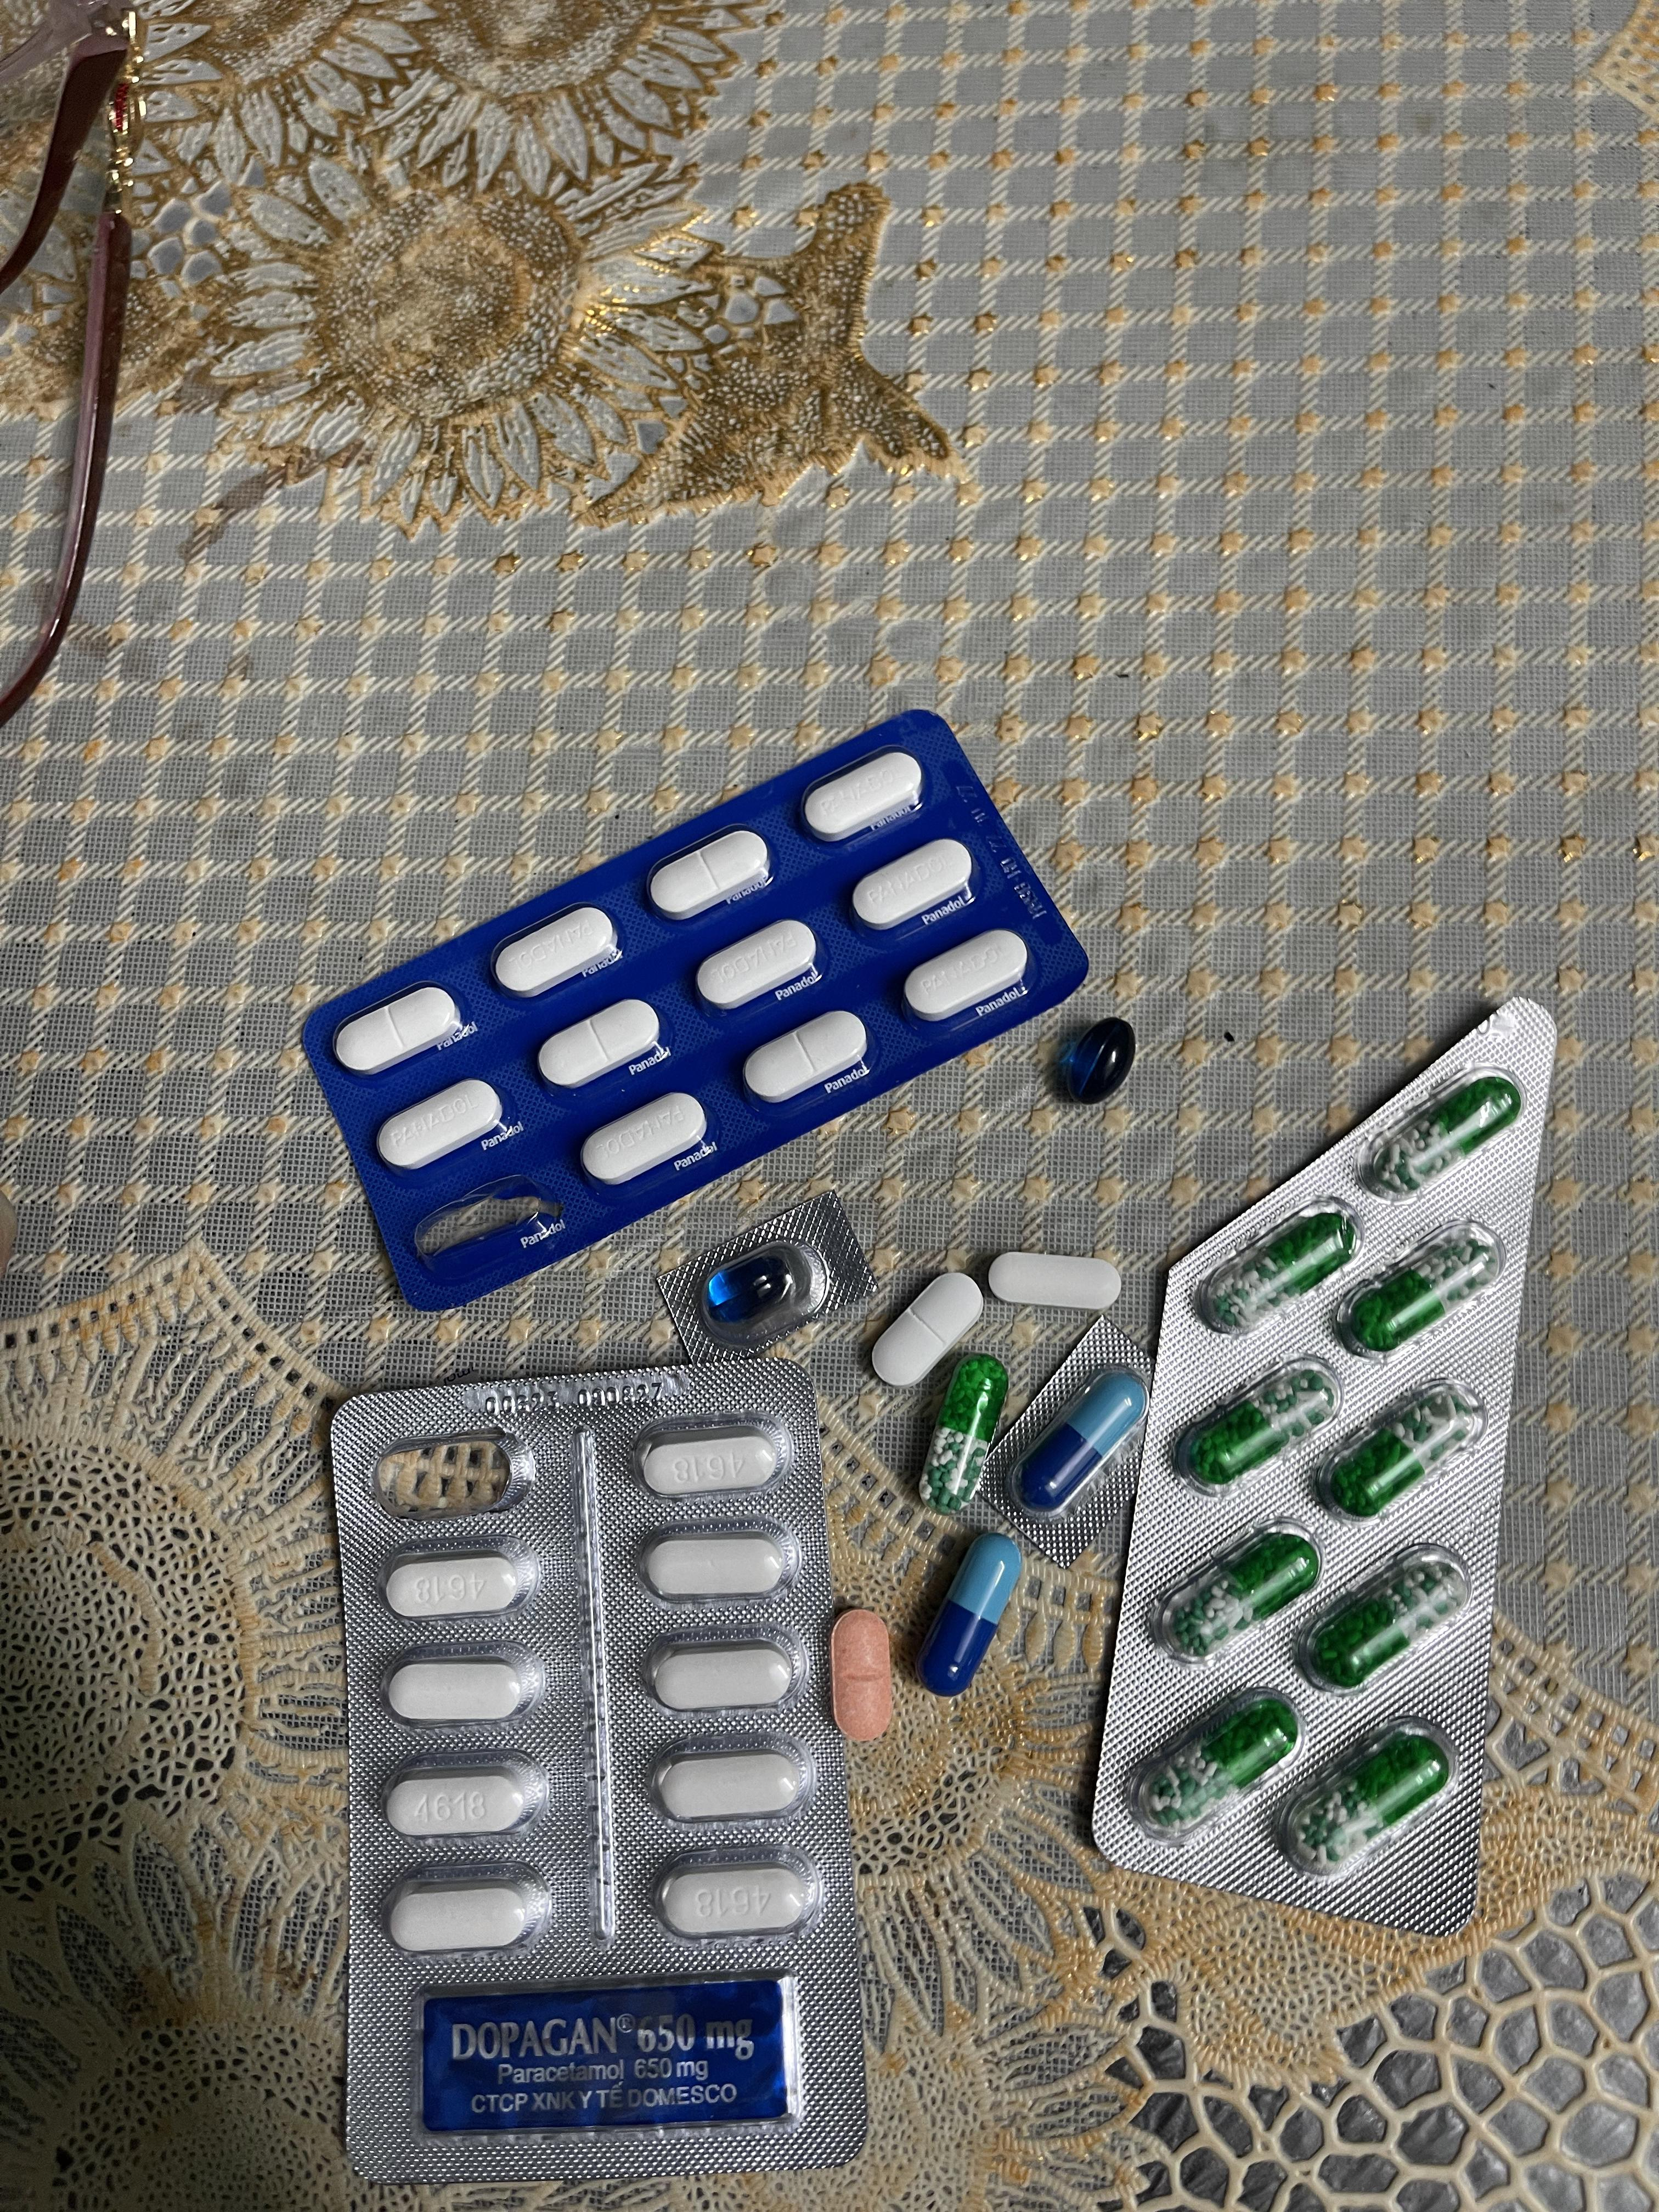Lincomyxin_500mg: (1059, 1017, 1134, 1102), (707, 1257, 794, 1324)
Loratadine_10mg: (830, 1610, 890, 1742)
Paracetamol_350mg: (871, 1271, 982, 1384), (377, 1078, 505, 1171), (851, 838, 976, 933), (581, 1095, 709, 1186), (697, 918, 822, 1011), (494, 906, 618, 999), (744, 1011, 869, 1104), (904, 929, 1028, 1022), (648, 830, 773, 920), (336, 987, 462, 1076), (802, 752, 924, 843), (540, 1001, 661, 1090)
Paracetamol_500mg: (655, 1853, 820, 1938), (387, 1871, 549, 1954), (651, 1741, 815, 1821), (385, 1756, 544, 1834), (384, 1547, 534, 1618), (648, 1643, 802, 1712), (383, 1657, 539, 1724), (637, 1533, 791, 1598), (644, 1436, 786, 1496), (987, 1251, 1119, 1311)
Paracetamol_650mg: (1277, 1719, 1458, 1880), (1297, 1544, 1472, 1691), (1129, 1691, 1294, 1845), (1316, 1382, 1486, 1526), (1158, 1518, 1321, 1662), (1181, 1358, 1338, 1498), (1341, 1223, 1502, 1354), (1200, 1203, 1357, 1336), (1362, 1073, 1523, 1201), (922, 1357, 1011, 1510)
pill: (1013, 1365, 1145, 1521), (917, 1536, 1023, 1696)
